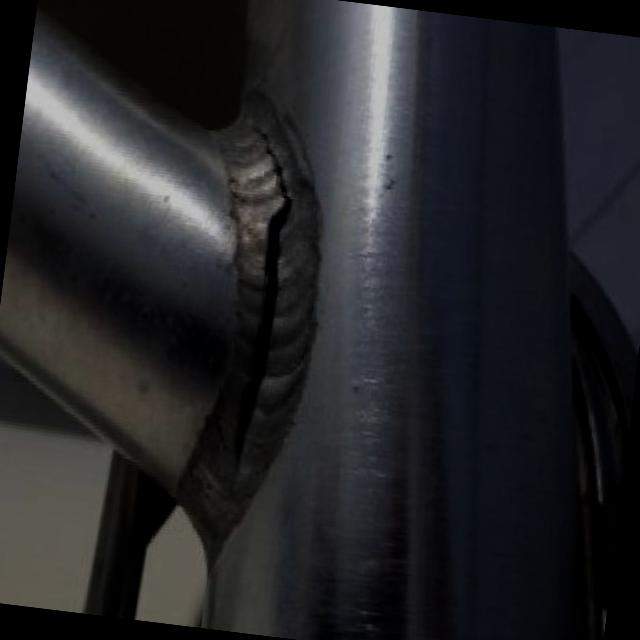crack: (232, 204, 292, 470), (252, 133, 296, 197)
